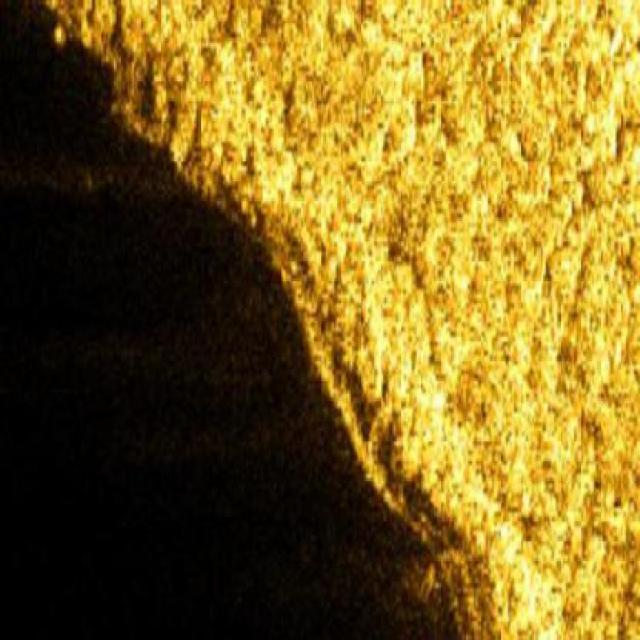bedrock group: (43, 0, 638, 638)
